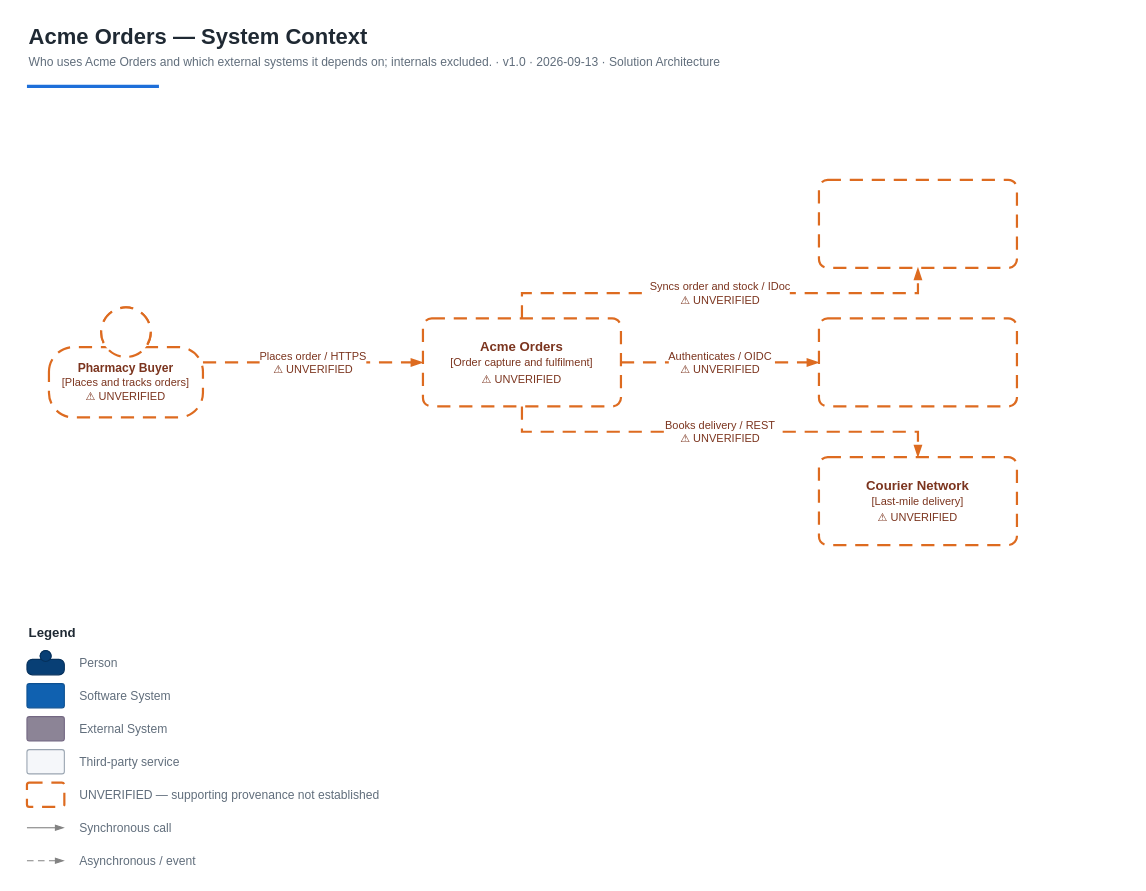
The diagram is 1146 pixels wide and 891 high, and some of its shapes have lost their labels. The box of each missing label's shape, as (x1, y1, x2, y2) in pixels:
Okta [Single sign-on] ⚠ UNVERIFIED: (817, 317, 1018, 407)
SAP ERP [Stock and invoicing] ⚠ UNVERIFIED: (817, 178, 1018, 268)
